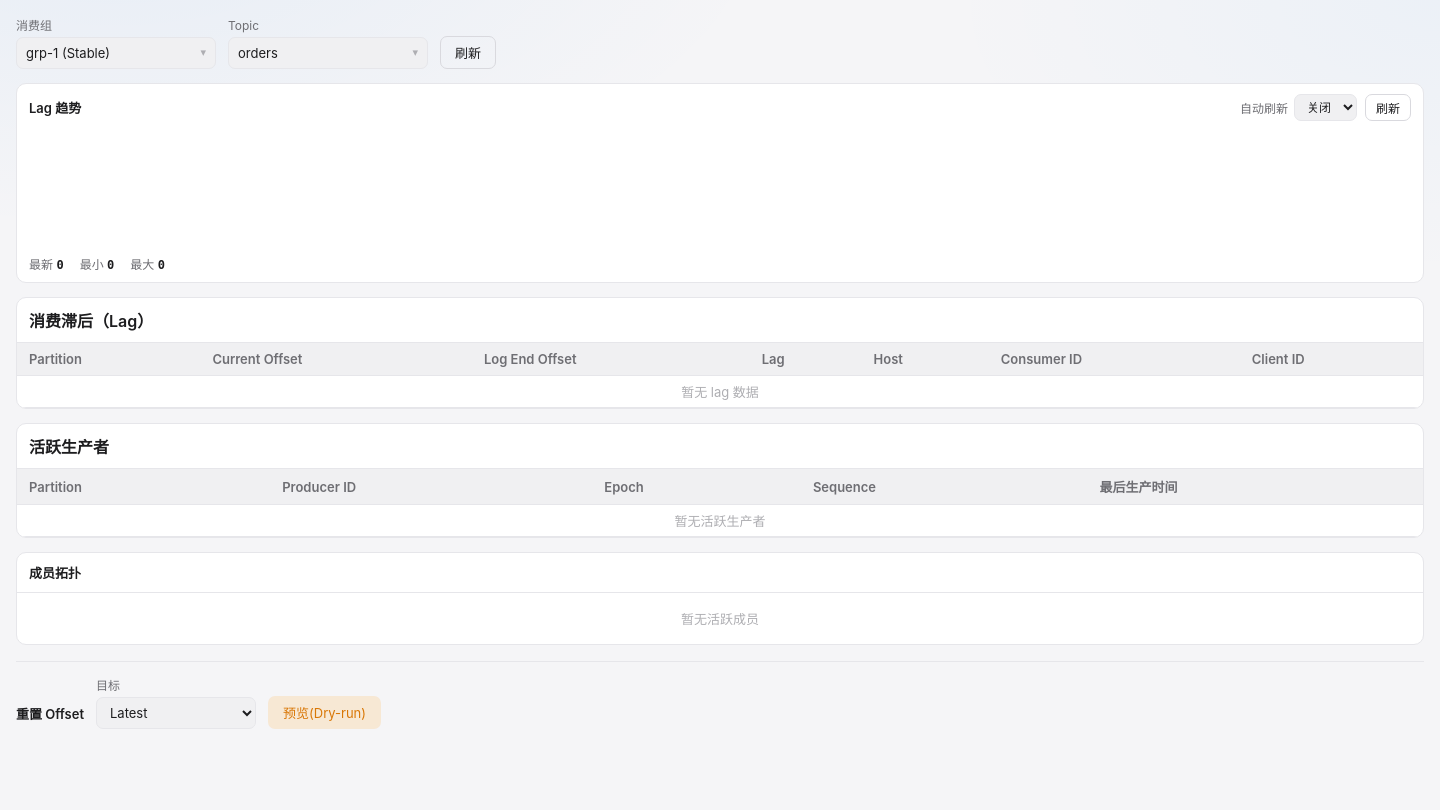
it: ConsumerGroupView › filters the topic dropdown by fuzzy search
Expected: the text with test id "search-select-value" reads "orders", [238, 45, 278, 61]
Click the button with test id "search-select-trigger" showing "orders ▾" at [328, 53], box [228, 37, 428, 69]
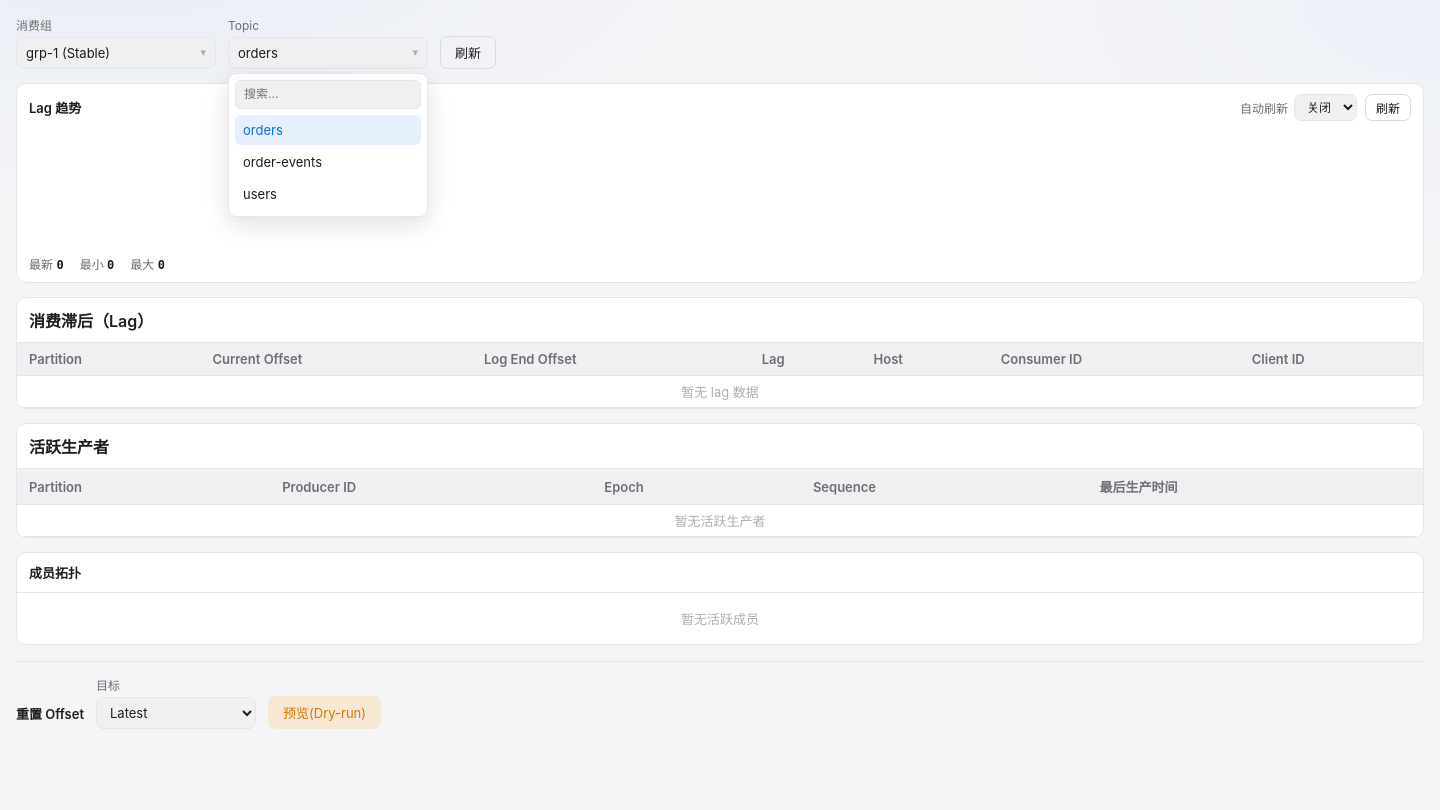
Type "ord" into the search field with test id "search-select-input" at [328, 95], box [235, 80, 421, 109]
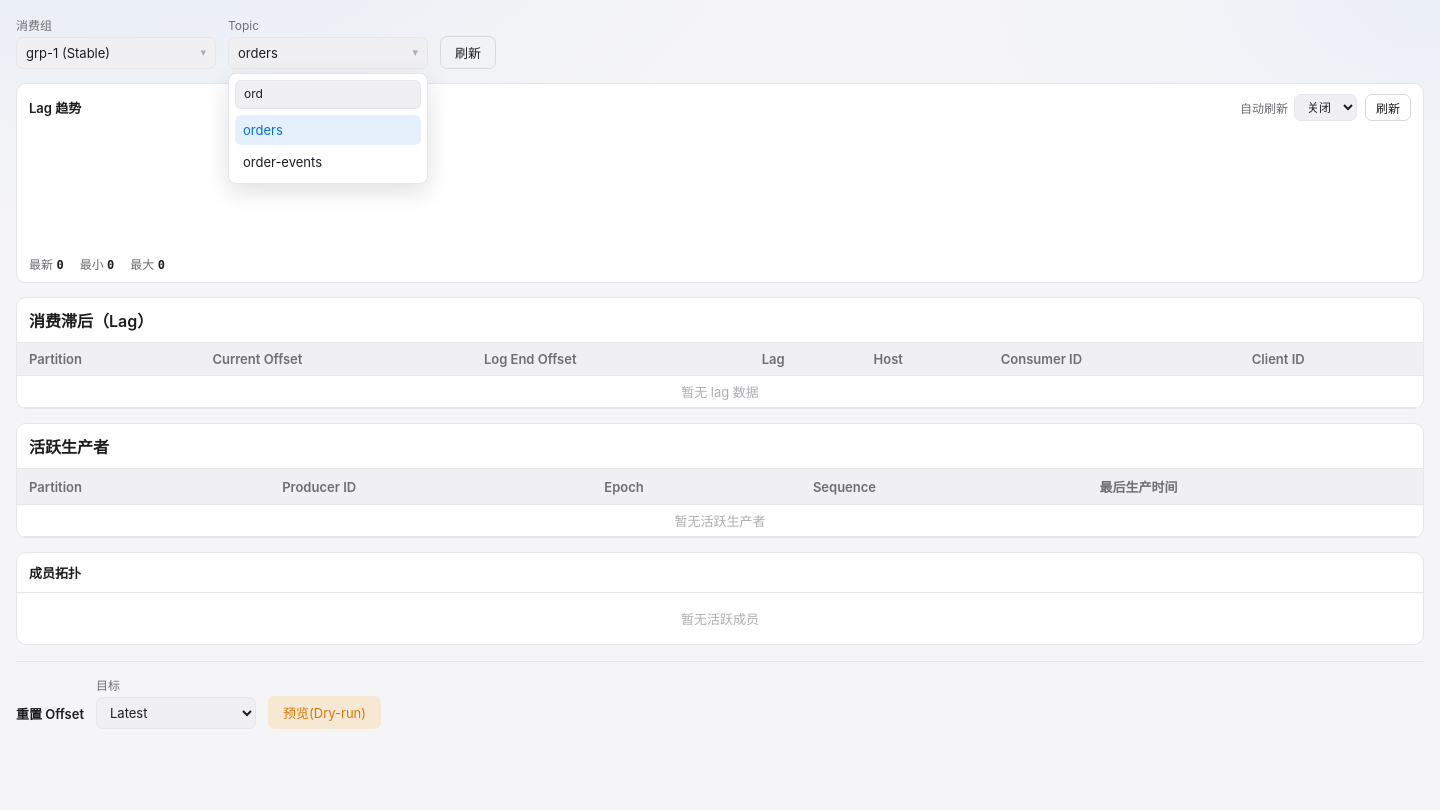
Expected: the elements with test id "search-select-option" read "orders", "order-events", in this order, [235, 115, 421, 145]; [243, 154, 322, 170]
